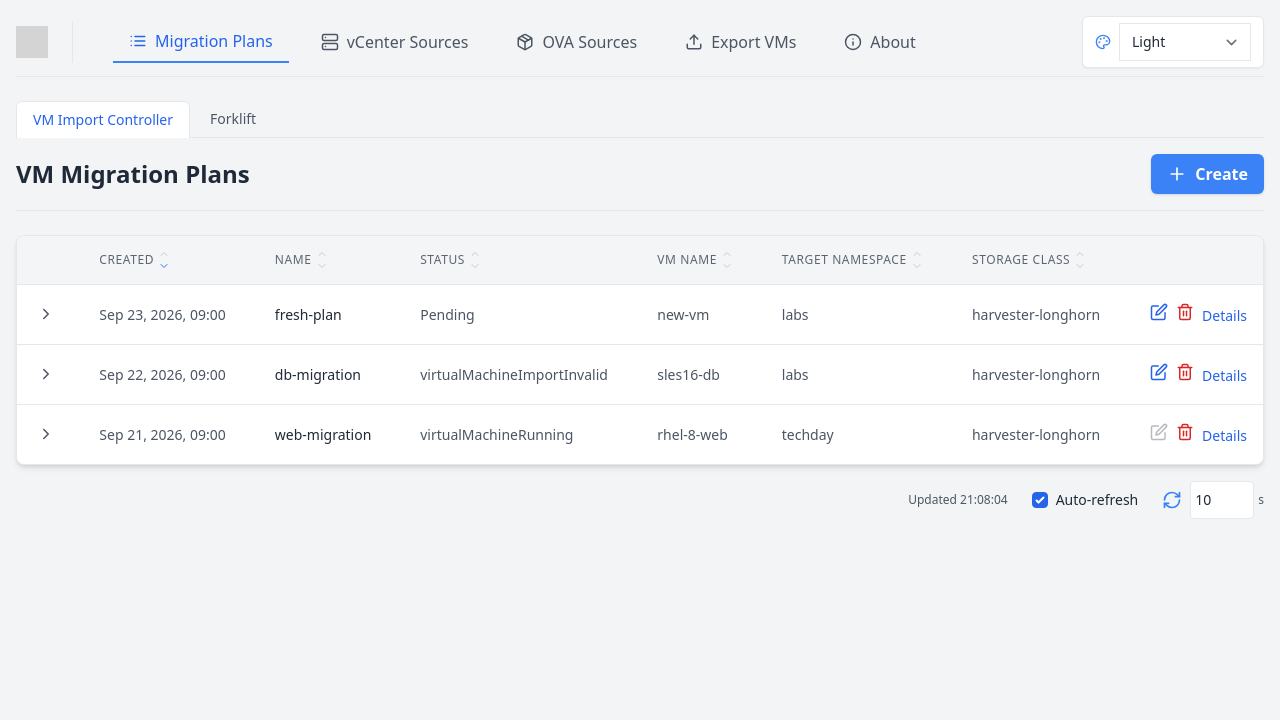
Test: edit flows fetch the full object and open the wizard on it › vCenter source
Click the button "vCenter Sources" at (395, 42), box x1=305 y1=21 x2=484 y2=63
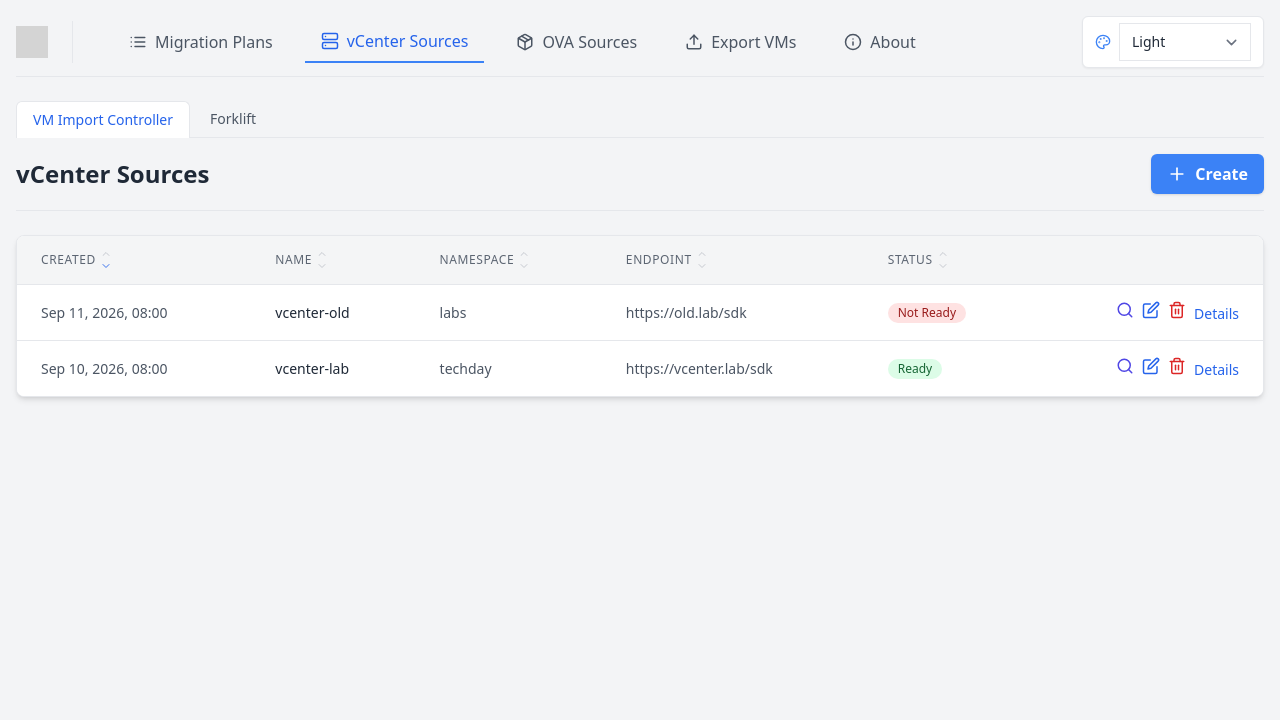
Click the button titled "Edit" in the row of "Sep 10, 2026, 08:00" at (1151, 366), box x1=1142 y1=357 x2=1160 y2=375
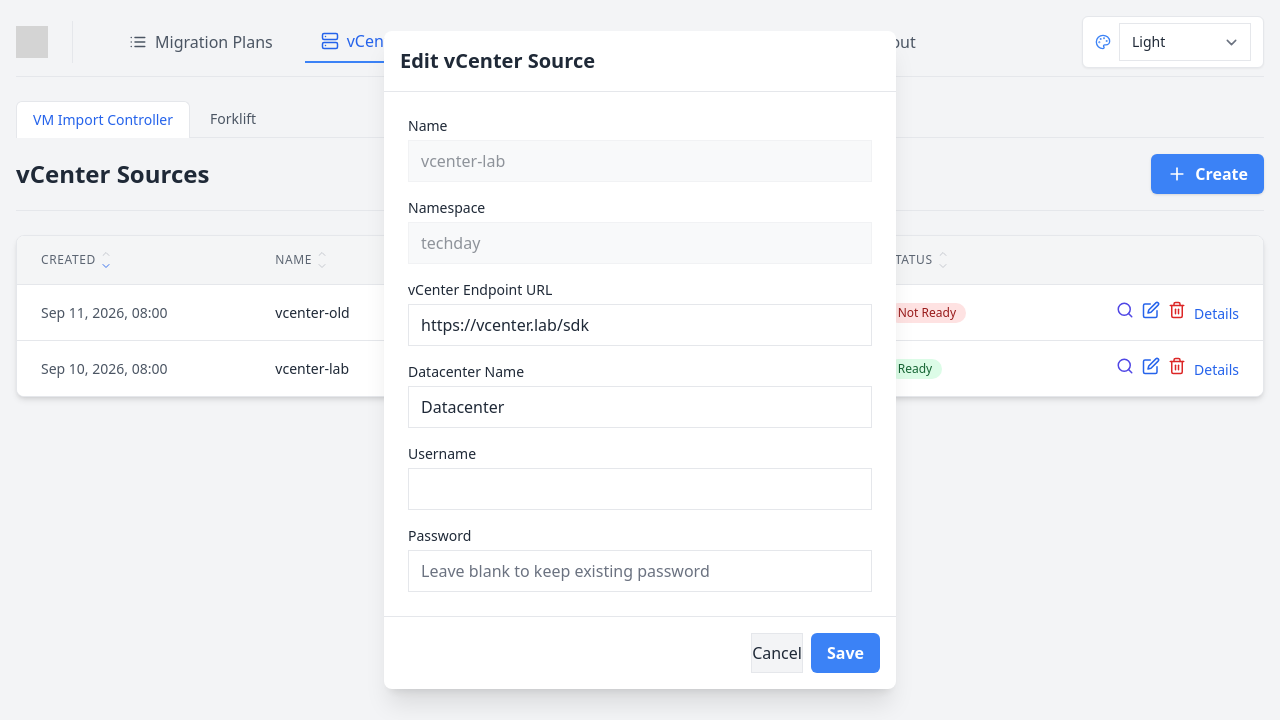
Result: the 1st field showing "vcenter-lab" is shown at x1=408 y1=140 x2=872 y2=182
